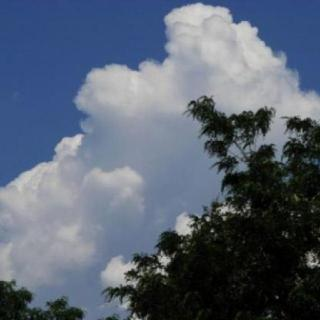Cumulus: (1, 0, 320, 271)
